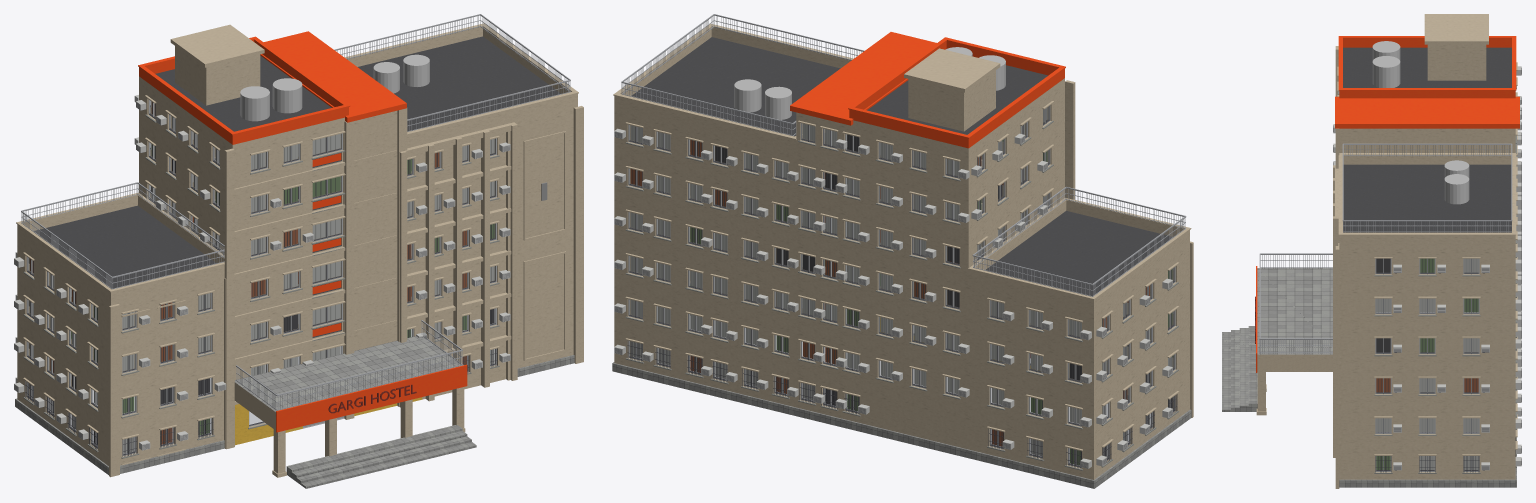
The model's file is Gargi.glb.
The picture shows the model from 3 angles, left to right: view 1: azimuth 30°, elevation 25°; view 2: azimuth 150°, elevation 25°; view 3: azimuth 270°, elevation 25°; orthographic projection. The views are drawn at different scales.
Parts seen in each view (by area): view 1: GGH_Tower, GGH_WingEast, GGH_WingWest, GGH_Canopy, GGH_Plinth; view 2: GGH_Tower, GGH_WingEast, GGH_WingWest, GGH_Plinth; view 3: GGH_WingEast, GGH_Tower, GGH_Canopy, GGH_Plinth.
Part boxes in pixels (box(x1,y1,x2,y2)): GGH_Tower: box(134, 24, 407, 449); GGH_WingEast: box(313, 14, 583, 407); GGH_WingWest: box(14, 182, 234, 477); GGH_Canopy: box(234, 320, 476, 488); GGH_Plinth: box(15, 355, 574, 474); GGH_Tower: box(790, 32, 1075, 449); GGH_WingEast: box(613, 14, 887, 407); GGH_WingWest: box(967, 187, 1193, 479); GGH_Plinth: box(612, 362, 1191, 488); GGH_WingEast: box(1333, 143, 1521, 488); GGH_Tower: box(1333, 14, 1521, 366); GGH_Canopy: box(1222, 253, 1332, 415); GGH_Plinth: box(1339, 455, 1516, 487).
Size of the model in its own units: 70.73 by 48.6 by 40.86.
25 materials, 8 textured.
